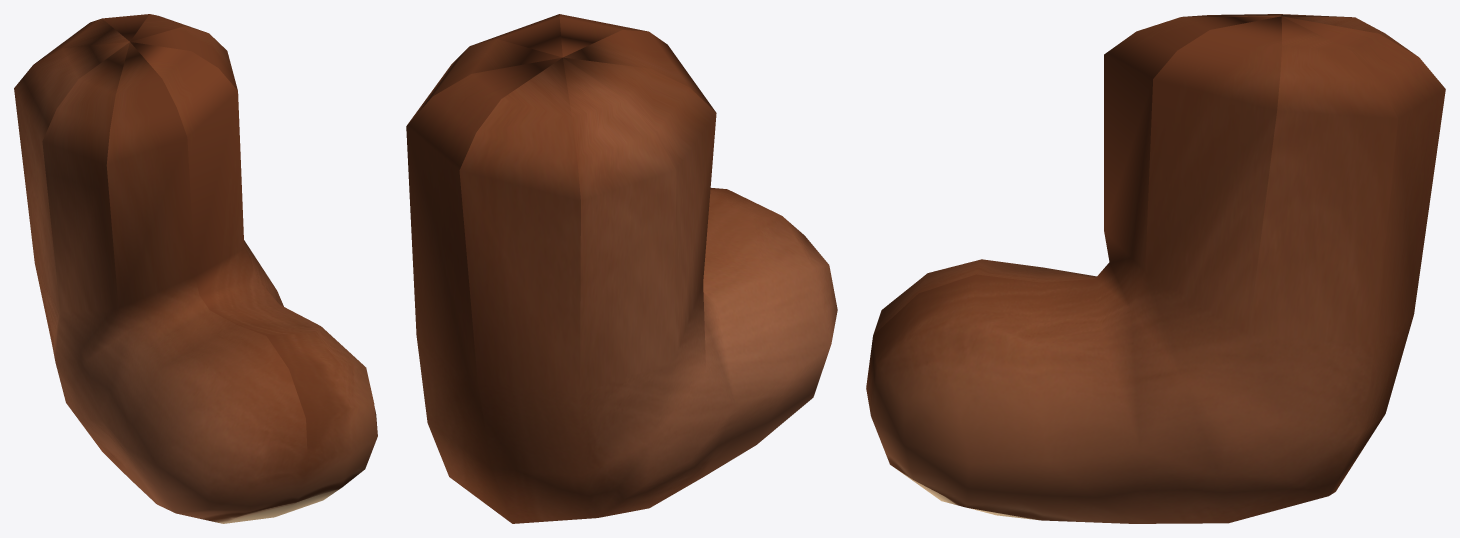
File: L_bearLeg.fbx
3 views of the same model, side by side, from view 1: azimuth 30°, elevation 25°; view 2: azimuth 150°, elevation 25°; view 3: azimuth 270°, elevation 25° (orthographic). The views are drawn at different scales.
Parts seen in each view (by area): view 1: L_bearLeg; view 2: L_bearLeg; view 3: L_bearLeg.
Boxes of the visible parts, x1,y1,x2,y2 form: L_bearLeg: (14, 14, 377, 523); L_bearLeg: (406, 14, 837, 523); L_bearLeg: (866, 14, 1445, 523).
Bounding box in the file's own units: 10.58 × 18.23 × 19.58.
